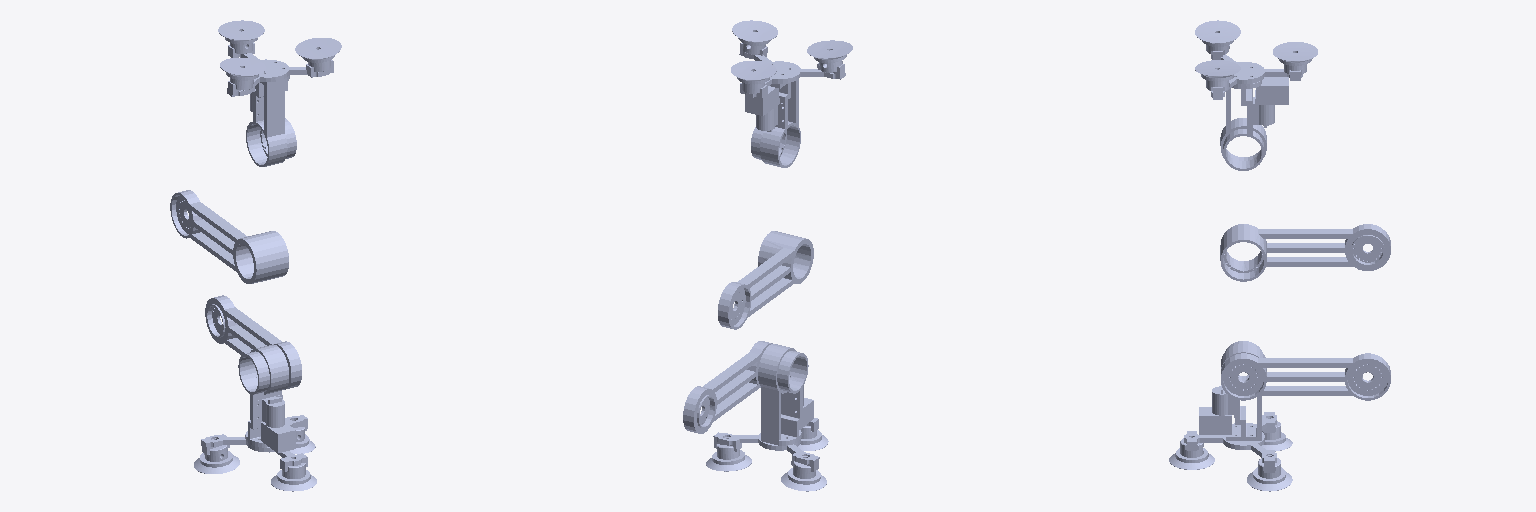
robot.urdf — bigmama0225:
<?xml version="1.0" encoding="utf-8" ?>
<!-- This URDF was automatically created by SolidWorks to URDF Exporter! Originally created by [author] ([email redacted]) 
     Commit Version: 1.6.0-1-g15f4949  Build Version: 1.6.7594.29634
     For more information, please see http://wiki.ros.org/sw_urdf_exporter -->
<robot name="bigmama0225">
<!--<link name="world"/>-->
    <link name="dummy" />
<!--<joint name="world_joint" type="fixed">
          <parent link="world"/>
          <child link="dummy"/>
    </joint>-->
    <link name="Link_0">
        
<inertial>
            <origin xyz="-0.0036197 -0.0088605 0.1449" rpy="0 0 0" />
            <mass value="0.80666" />
            <inertia ixx="0.0014974" ixy="-1.2947E-05" ixz="1.4235E-05" iyy="0.0014446" iyz="-7.5473E-06" izz="0.0010286" />
        </inertial>

        <visual>
            <origin xyz="0 0 0" rpy="0 0 0" />
            <geometry>
                <mesh filename="package://bigmama0225/meshes/Link_0.STL" />
            </geometry>
            <material name="">
                <color rgba="0.79216 0.81961 0.93333 1" />
            </material>
        </visual>
        <collision>
            <origin xyz="0 0 0" rpy="0 0 0" />
            <geometry>
                <mesh filename="package://bigmama0225/meshes/Link_0.STL" />
            </geometry>
            <friction>
            <ode>
              <mu>50</mu>
              <mu2>10</mu2>
              <fdir1>1 0 0</fdir1>
              <slip1>0</slip1>
              <slip2>0</slip2>
            </ode>
            <torsional>
              <coefficient>1</coefficient>
              <patch_radius>0</patch_radius>
              <surface_radius>0</surface_radius>
              <use_patch_radius>1</use_patch_radius>
              <ode>
                <slip>0</slip>
              </ode>
            </torsional>
          </friction>
        </collision>
    </link>
    <joint name="dummy_joint" type="fixed">
        <parent link="dummy" />
        <child link="Link_0" />
    </joint>
    <link name="Link_1">
        
<inertial>
            <origin xyz="-6.6613E-16 0.12 0.014813" rpy="0 0 0" />
            <mass value="0.28238" />
            <inertia ixx="0.0027445" ixy="2.7198E-20" ixz="5.9863E-21" iyy="0.00019508" iyz="-4.6982E-20" izz="0.0029159" />
        </inertial>

        <visual>
            <origin xyz="0 0 0" rpy="0 0 0" />
            <geometry>
                <mesh filename="package://bigmama0225/meshes/Link_1.STL" />
            </geometry>
            <material name="">
                <color rgba="0.79216 0.81961 0.93333 1" />
            </material>
        </visual>
        <collision>
            <origin xyz="0 0 0" rpy="0 0 0" />
            <geometry>
                <mesh filename="package://bigmama0225/meshes/Link_1.STL" />
            </geometry>
        </collision>
    </link>
    <joint name="Joint_1" type="revolute">
        <origin xyz="0.022 0 0.27042" rpy="1.5708 0 1.5708" />
        <parent link="Link_0" />
        <child link="Link_1" />
        <axis xyz="0 0 -1" />
        <limit lower="-3.14" upper="3.14" effort="100" velocity="1" />
    </joint>
    <link name="Link_2">
        
<inertial>
            <origin xyz="1.1102E-16 0.098184 -0.051898" rpy="0 0 0" />
            <mass value="0.34516" />
            <inertia ixx="0.0036332" ixy="3.4189E-18" ixz="-4.4191E-19" iyy="0.00034405" iyz="0.00024115" izz="0.0037914" />
        </inertial>

        <visual>
            <origin xyz="0 0 0" rpy="0 0 0" />
            <geometry>
                <mesh filename="package://bigmama0225/meshes/Link_2.STL" />
            </geometry>
            <material name="">
                <color rgba="0.79216 0.81961 0.93333 1" />
            </material>
        </visual>
        <collision>
            <origin xyz="0 0 0" rpy="0 0 0" />
            <geometry>
                <mesh filename="package://bigmama0225/meshes/Link_2.STL" />
            </geometry>
        </collision>
    </link>
    <joint name="Joint_2" type="revolute">
        <origin xyz="0 0.24 0" rpy="0 0 0" />
        <parent link="Link_1" />
        <child link="Link_2" />
        <axis xyz="0 0 -1" />
        <limit lower="-3.14" upper="3.14" effort="100" velocity="1" />
    </joint>
    <link name="Link_3">
        
<inertial>
            <origin xyz="0.0088614 0.12552 0.025619" rpy="0 0 0" />
            <mass value="0.80659" />
            <inertia ixx="0.0014442" ixy="-7.5611E-06" ixz="-1.2945E-05" iyy="0.0010285" iyz="1.4228E-05" izz="0.001497" />
        </inertial>

        <visual>
            <origin xyz="0 0 0" rpy="0 0 0" />
            <geometry>
                <mesh filename="package://bigmama0225/meshes/Link_3.STL" />
            </geometry>
            <material name="">
                <color rgba="0.79216 0.81961 0.93333 1" />
            </material>
        </visual>
        <collision>
            <origin xyz="0 0 0" rpy="0 0 0" />
            <geometry>
                <mesh filename="package://bigmama0225/meshes/Link_3.STL" />
            </geometry>
            <friction>
            <ode>
              <mu>50</mu>
              <mu2>10</mu2>
              <fdir1>1 0 0</fdir1>
              <slip1>0</slip1>
              <slip2>0</slip2>
            </ode>
            <torsional>
              <coefficient>1</coefficient>
              <patch_radius>0</patch_radius>
              <surface_radius>0</surface_radius>
              <use_patch_radius>1</use_patch_radius>
              <ode>
                <slip>0</slip>
              </ode>
            </torsional>
          </friction>
        </collision>
    </link>
    <joint name="Joint_3" type="revolute">
        <origin xyz="0 0.24 -0.0442" rpy="0 0 0" />
        <parent link="Link_2" />
        <child link="Link_3" />
        <axis xyz="0 0 1" />
        <limit lower="-3.14" upper="3.14" effort="100" velocity="1" />
    </joint>
    
<transmission name="trans_Joint_1">
        <type>transmission_interface/SimpleTransmission</type>
        <joint name="Joint_1">
            <hardwareInterface>hardware_interface/PositionJointInterface</hardwareInterface>
        </joint>
        <actuator name="Joint_1_motor">
            <hardwareInterface>hardware_interface/PositionJointInterface</hardwareInterface>
            <mechanicalReduction>1</mechanicalReduction>
        </actuator>
    </transmission>
    <transmission name="trans_Joint_2">
        <type>transmission_interface/SimpleTransmission</type>
        <joint name="Joint_2">
            <hardwareInterface>hardware_interface/PositionJointInterface</hardwareInterface>
        </joint>
        <actuator name="Joint_2_motor">
            <hardwareInterface>hardware_interface/PositionJointInterface</hardwareInterface>
            <mechanicalReduction>1</mechanicalReduction>
        </actuator>
    </transmission>
    <transmission name="trans_Joint_3">
        <type>transmission_interface/SimpleTransmission</type>
        <joint name="Joint_3">
            <hardwareInterface>hardware_interface/PositionJointInterface</hardwareInterface>
        </joint>
        <actuator name="Joint_3_motor">
            <hardwareInterface>hardware_interface/PositionJointInterface</hardwareInterface>
            <mechanicalReduction>1</mechanicalReduction>
        </actuator>
    </transmission>
    <gazebo reference="Link_0">
        <material>Gazebo/Green</material>
    </gazebo>
    <gazebo>
        <plugin name="gazebo_ros_control" filename="libgazebo_ros_control.so">
            <robotNamespace>/</robotNamespace>
        </plugin>
    </gazebo>
</robot>

--- Render facts (derived) ---
Views: 3 orthographic renders of the robot side by side, from view 1: azimuth 30°, elevation 25°; view 2: azimuth 150°, elevation 25°; view 3: azimuth 270°, elevation 25°.
Robot: bigmama0225 — 5 links, 4 joints (3 revolute, 1 fixed); root link dummy; default pose: every joint at zero.
Visible links, largest first — view 1: Link_3, Link_0, Link_2, Link_1; view 2: Link_3, Link_0, Link_2, Link_1; view 3: Link_3, Link_0, Link_2, Link_1.
Boxes of the visible links, x1=… form: Link_3: x1=218, y1=20, x2=341, y2=166; Link_0: x1=194, y1=344, x2=316, y2=491; Link_2: x1=170, y1=190, x2=288, y2=283; Link_1: x1=205, y1=295, x2=301, y2=389; Link_3: x1=731, y1=20, x2=852, y2=167; Link_0: x1=706, y1=344, x2=828, y2=491; Link_2: x1=718, y1=231, x2=813, y2=329; Link_1: x1=683, y1=341, x2=772, y2=433; Link_3: x1=1195, y1=20, x2=1317, y2=170; Link_0: x1=1169, y1=341, x2=1292, y2=491; Link_2: x1=1220, y1=224, x2=1390, y2=281; Link_1: x1=1221, y1=353, x2=1390, y2=400.
Bounding box of the posed robot: 0.2553 × 0.4291 × 0.8854 m (x, y, z).
Meshes: 4 distinct files referenced, 4 mesh visuals loaded (4 binary STL).
